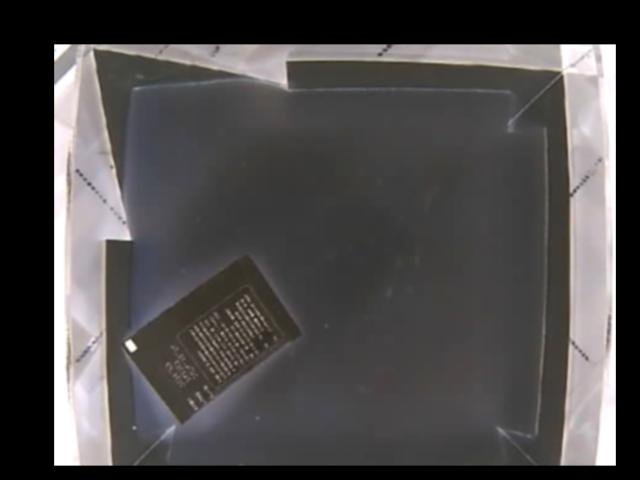Medicine: (122, 255, 300, 426)
